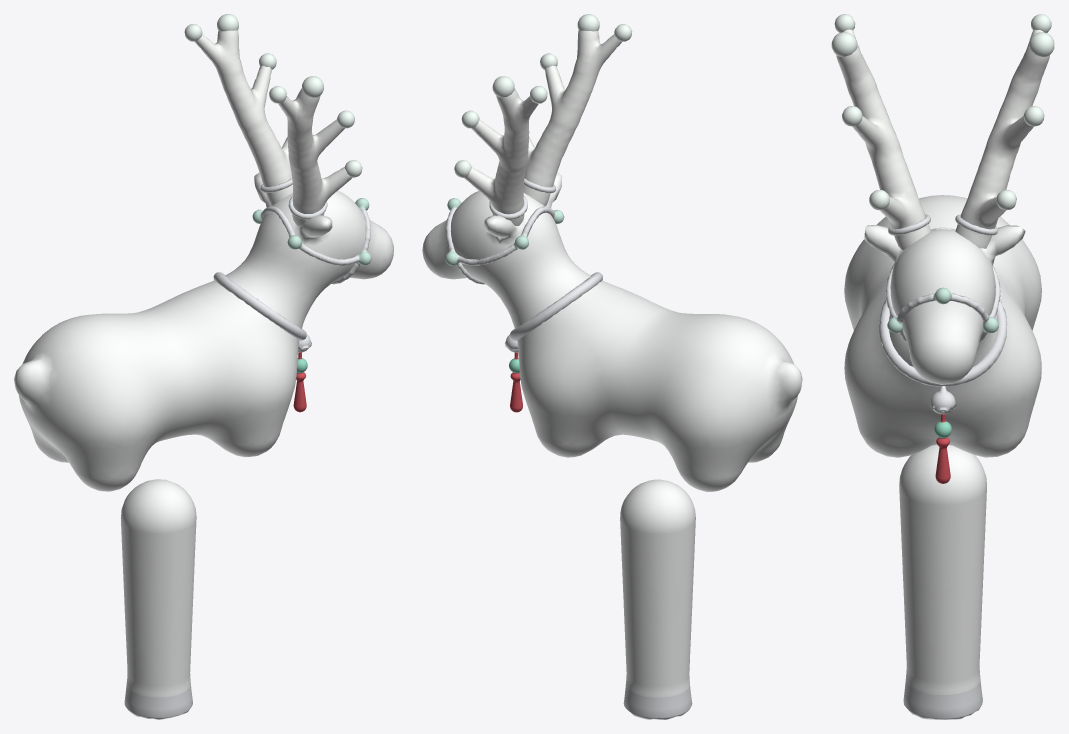
Rendered from baengnok152_adult.glb.
3 views of the same model, side by side, from view 1: azimuth 30°, elevation 25°; view 2: azimuth 150°, elevation 25°; view 3: azimuth 270°, elevation 25° (orthographic). The views are drawn at different scales.
Parts seen in each view (by area): view 1: body, leg, horn, bead, bridle, cord; view 2: body, leg, horn, bead, bridle, cord; view 3: body, leg, horn, bead, cord, bridle, norigae, ring, bell.
Boxes of the visible parts, x1=… form: body: x1=14, y1=172, x2=393, y2=491; leg: x1=120, y1=479, x2=196, y2=719; horn: x1=194, y1=30, x2=352, y2=226; bead: x1=184, y1=14, x2=362, y2=177; bridle: x1=252, y1=198, x2=371, y2=284; cord: x1=213, y1=272, x2=306, y2=340; body: x1=422, y1=172, x2=802, y2=491; leg: x1=620, y1=479, x2=695, y2=719; horn: x1=464, y1=30, x2=621, y2=225; bead: x1=454, y1=14, x2=632, y2=177; bridle: x1=445, y1=198, x2=564, y2=284; cord: x1=509, y1=272, x2=602, y2=340; body: x1=844, y1=195, x2=1041, y2=457; leg: x1=899, y1=444, x2=986, y2=719; horn: x1=836, y1=29, x2=1049, y2=250; bead: x1=831, y1=14, x2=1054, y2=210; cord: x1=878, y1=299, x2=1007, y2=386; bridle: x1=885, y1=227, x2=1000, y2=342; norigae: x1=934, y1=414, x2=951, y2=483; ring: x1=888, y1=214, x2=998, y2=235; bell: x1=929, y1=386, x2=956, y2=414.
Bounding box in the file's own units: 2.39 × 3.87 × 1.06.
